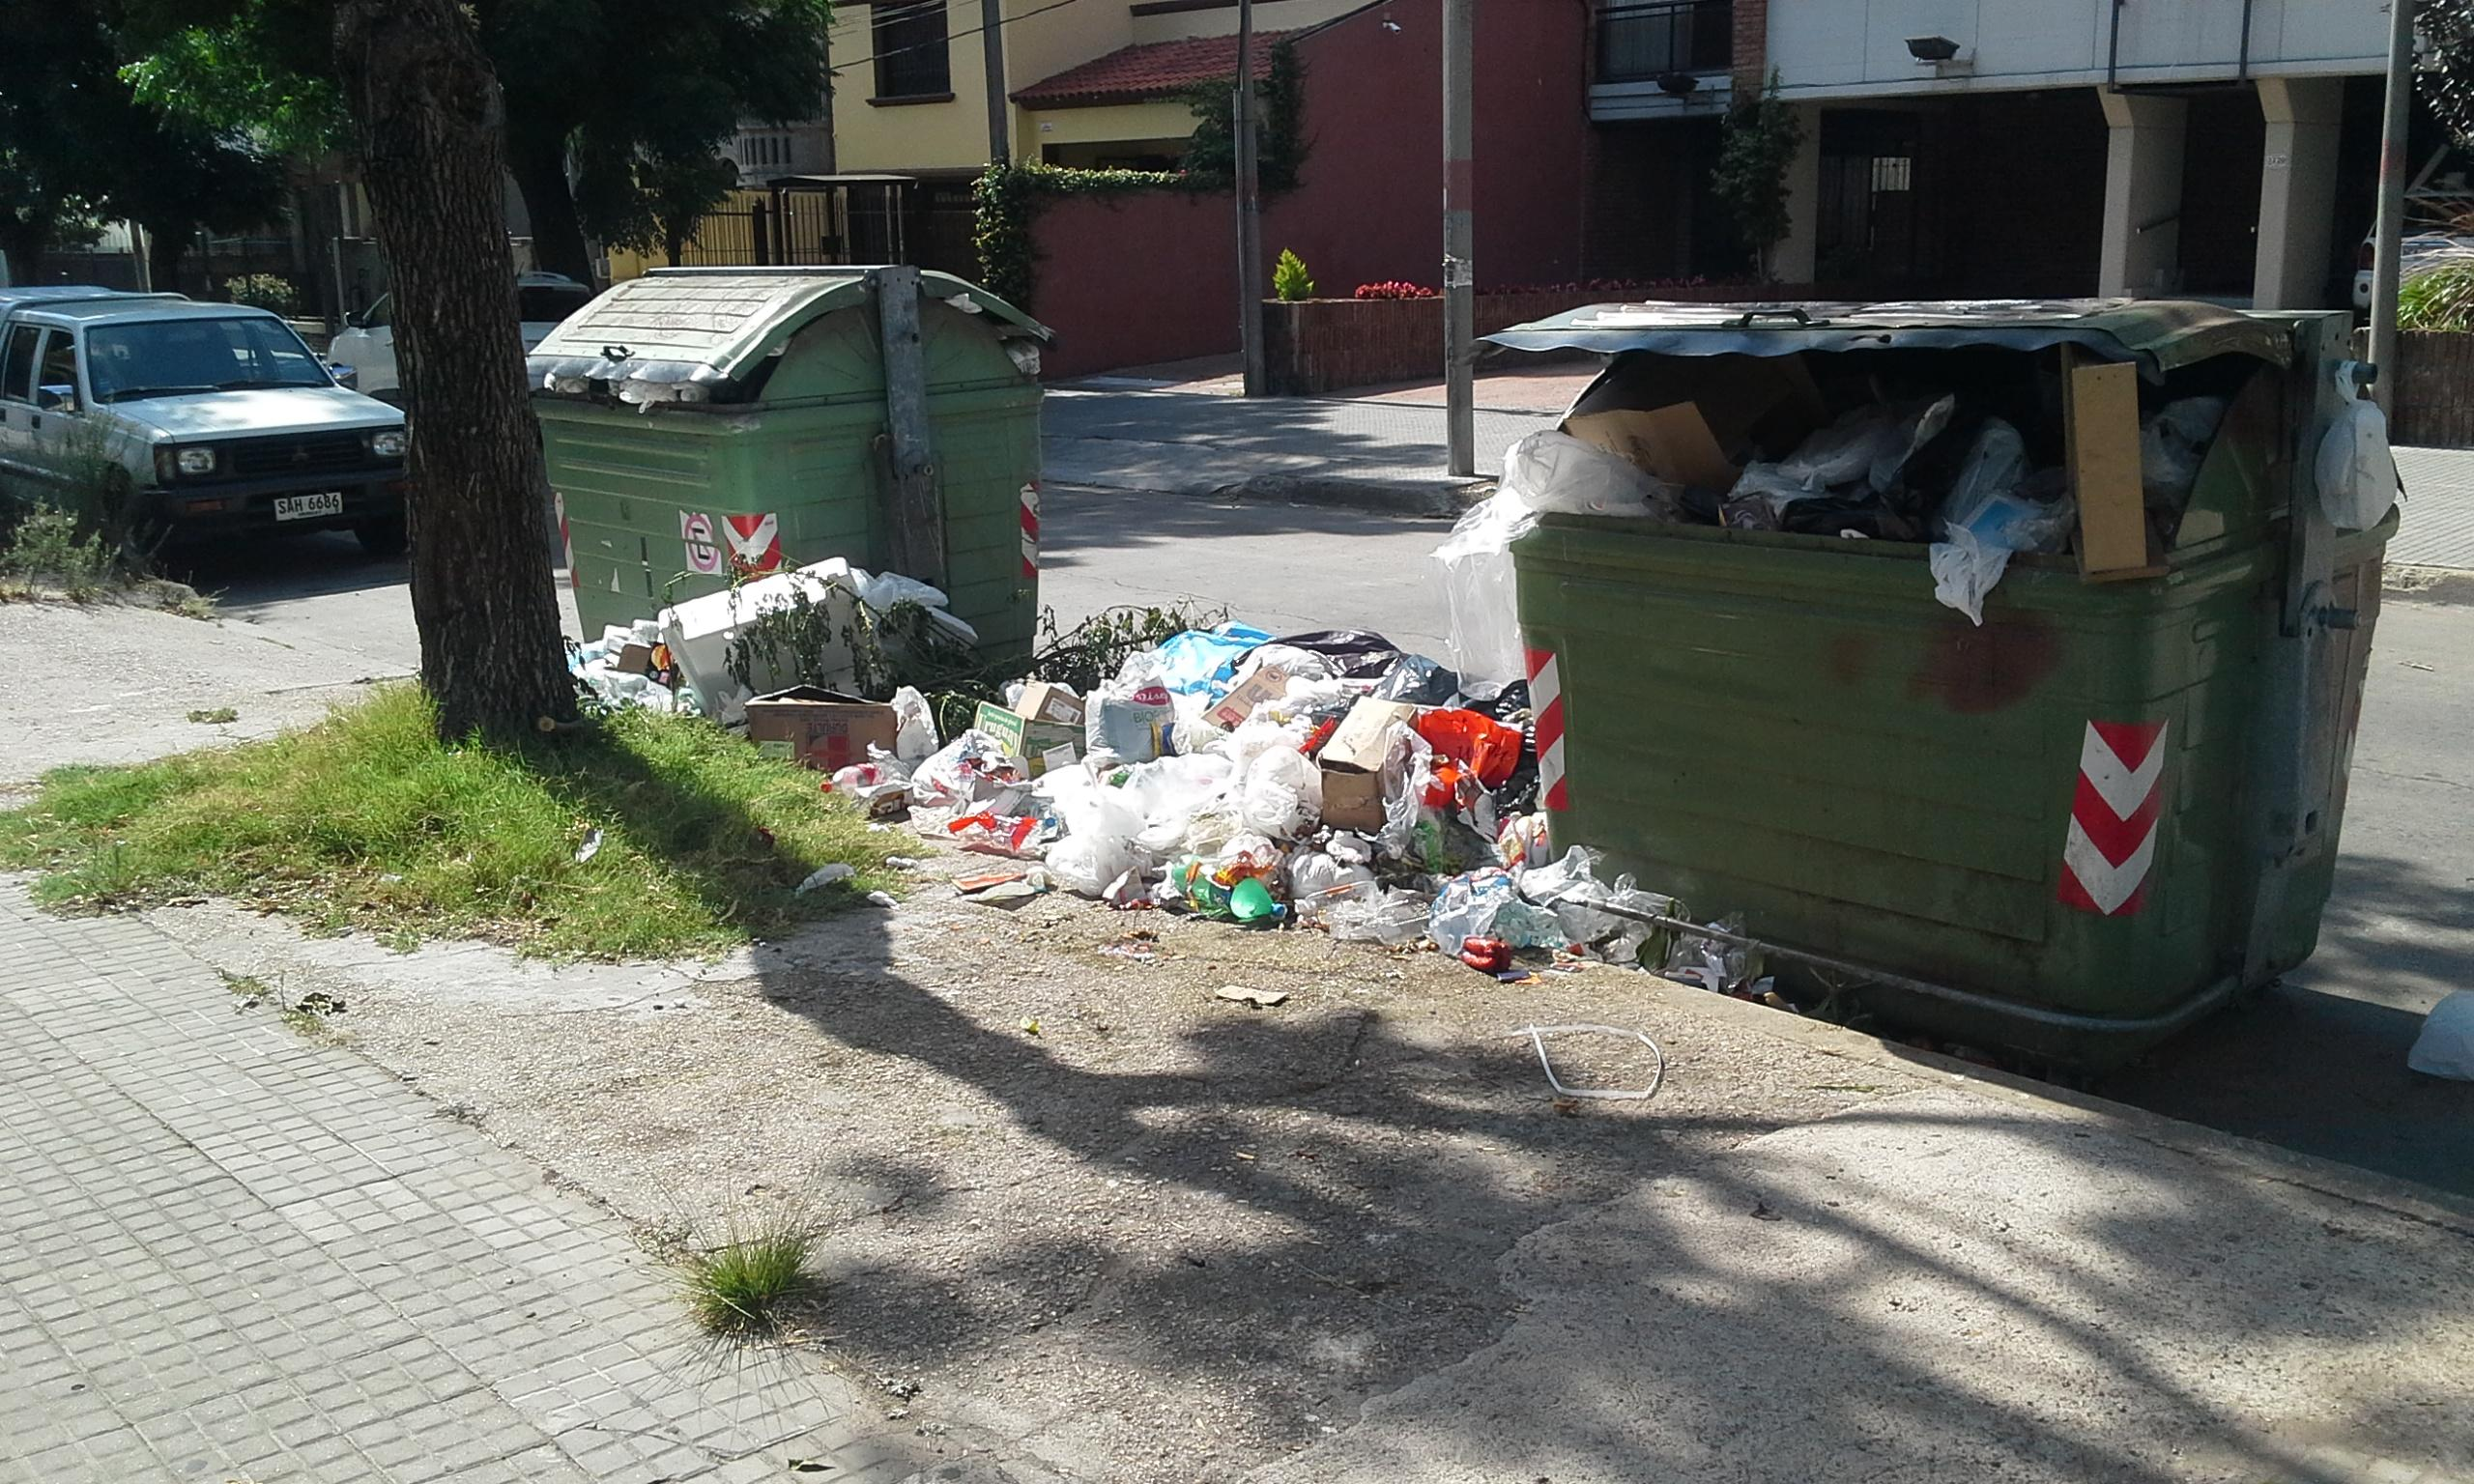Dechets: (565, 551, 1792, 1003), (1566, 355, 2204, 562), (1514, 998, 1679, 1117), (1313, 693, 1424, 834), (748, 682, 898, 774), (1415, 710, 1518, 806), (2403, 970, 2474, 1097), (1115, 753, 1230, 830), (970, 700, 1085, 772), (954, 862, 1048, 926), (785, 855, 871, 908), (1011, 677, 1089, 731), (1210, 972, 1301, 1016)
Trash: (1461, 286, 2414, 1048), (521, 253, 1057, 643)
